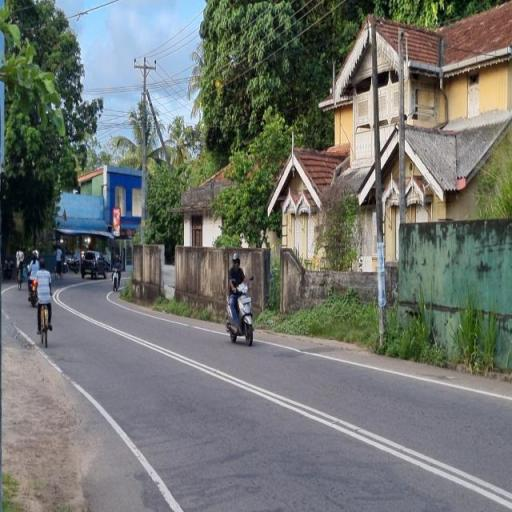double_white_line: (180, 334, 510, 512)
